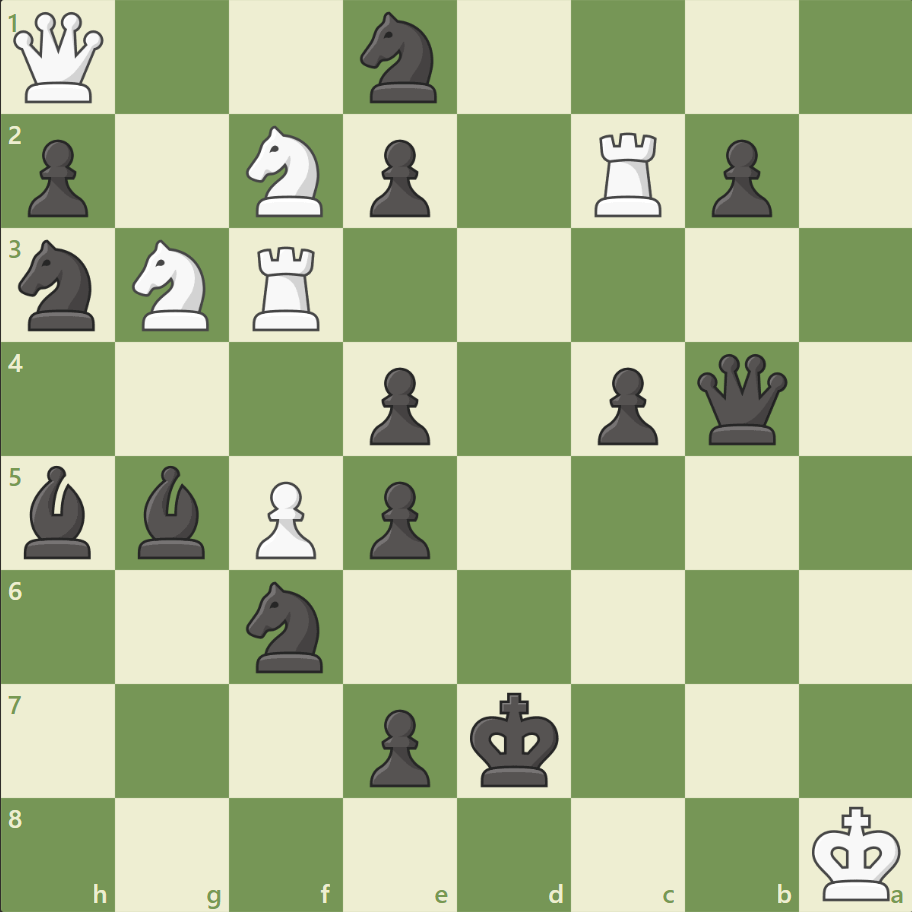K: (806, 798, 906, 906)
N: (124, 234, 222, 337), (238, 121, 335, 223)
P: (247, 473, 322, 564)
Q: (10, 9, 109, 108)
R: (246, 239, 329, 336), (587, 125, 670, 222)
b: (131, 460, 215, 563), (17, 460, 101, 563)
k: (465, 685, 565, 793)
n: (351, 7, 449, 110), (11, 234, 108, 337), (238, 575, 335, 677)
p: (701, 132, 776, 223), (20, 132, 95, 223), (361, 700, 435, 791), (361, 473, 435, 564), (588, 359, 662, 450), (361, 359, 435, 450), (361, 132, 435, 223)
q: (691, 349, 790, 449)
